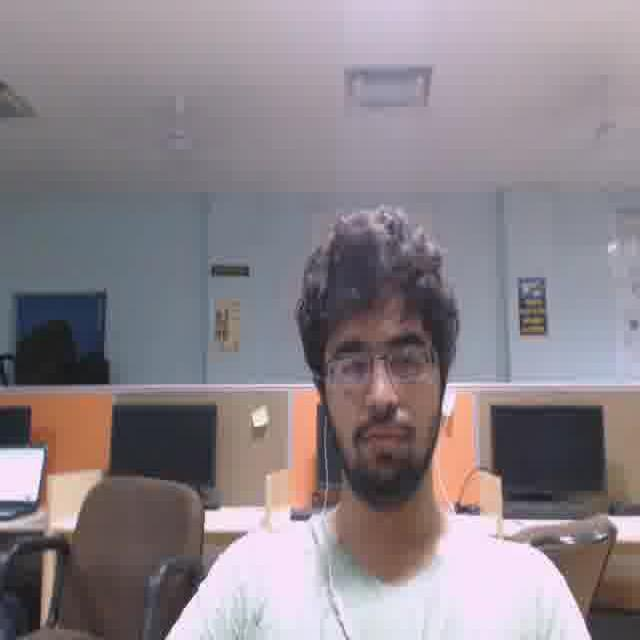Boredom: (323, 295, 440, 480)
